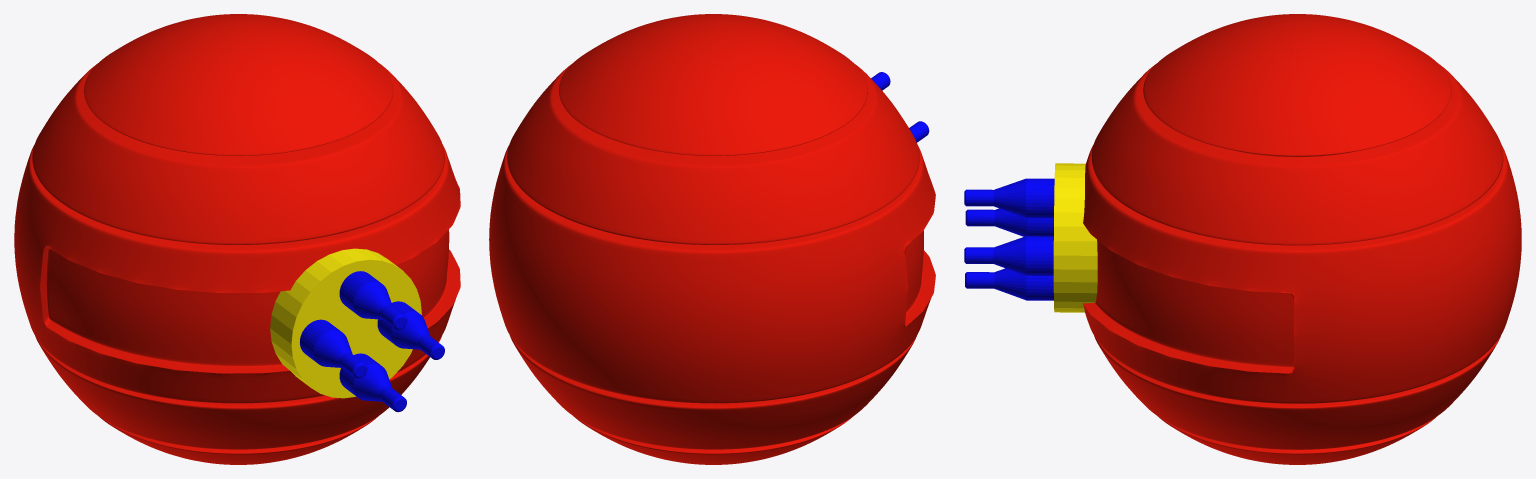
File: SphereTurret.glb
3 renders of one model, left to right at view 1: azimuth 30°, elevation 25°; view 2: azimuth 150°, elevation 25°; view 3: azimuth 270°, elevation 25°, orthographic.
Parts seen in each view (by area): view 1: Sphere, Cylinder, Cylinder.004; view 2: Sphere, Cylinder.004; view 3: Sphere, Cylinder.004, Cylinder.
Part boxes in pixels (left/top/right/bottom): Sphere: left=14, top=14, right=460, bottom=464; Cylinder: left=270, top=248, right=421, bottom=398; Cylinder.004: left=299, top=271, right=444, bottom=412; Sphere: left=489, top=14, right=935, bottom=464; Cylinder.004: left=871, top=72, right=929, bottom=142; Sphere: left=1083, top=14, right=1521, bottom=464; Cylinder.004: left=964, top=178, right=1054, bottom=300; Cylinder: left=1053, top=163, right=1097, bottom=312.
Size of the model in its own units: 2 by 2 by 2.45.
